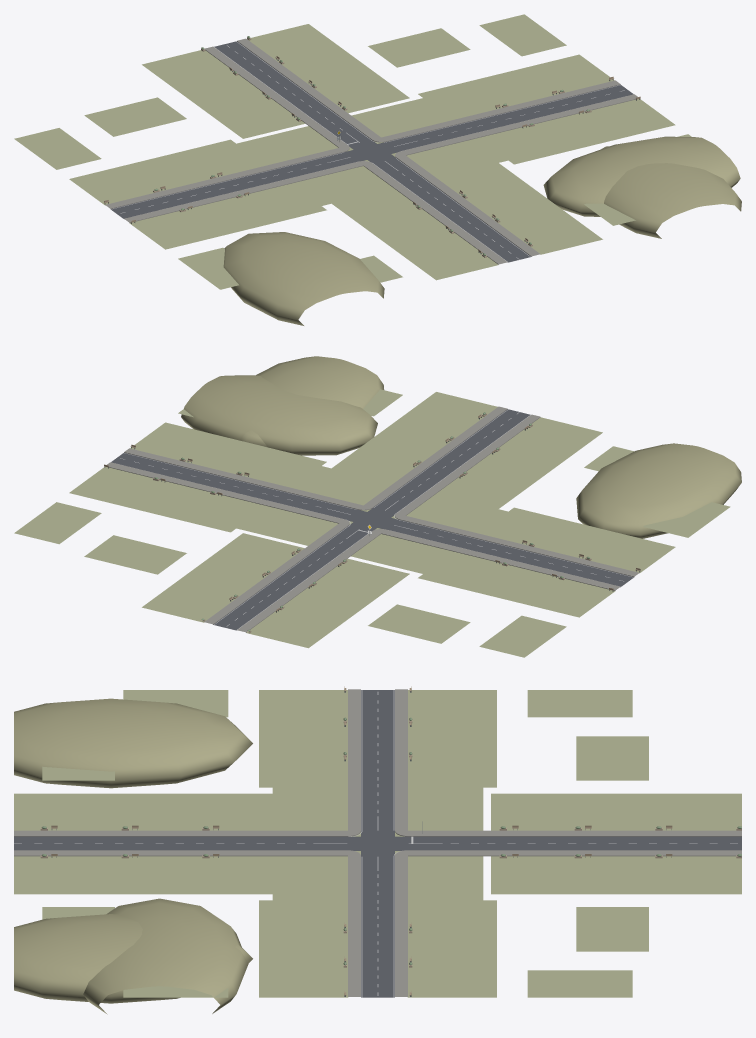
3 views of the same model, one above another, from view 1: azimuth 30°, elevation 25°; view 2: azimuth 150°, elevation 25°; view 3: azimuth 270°, elevation 25° (orthographic). The views are drawn at different scales.
Parts seen in each view (by area): view 1: static; view 2: static; view 3: static.
Part boxes in pixels (x1,y1,x2,y2): static: [14, 14, 741, 325]; static: [14, 356, 741, 657]; static: [14, 686, 741, 1014].
Size of what is drawn, in the model's own units: 180 by 14.08 by 180.
Materials: 5 (4 with a texture image).
